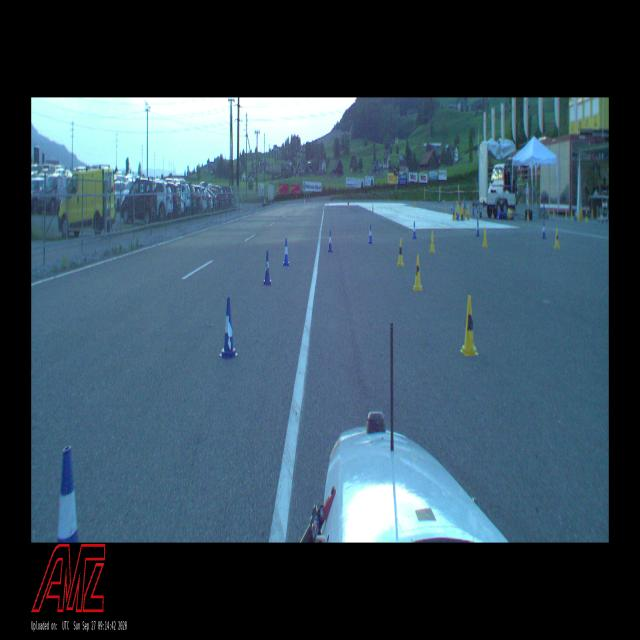blue_cone: (57, 447, 79, 542), (219, 296, 238, 358), (263, 251, 272, 285), (282, 238, 290, 266), (328, 230, 333, 252), (368, 224, 373, 243), (412, 221, 417, 239), (542, 221, 546, 239), (476, 219, 480, 237)
yellow_cone: (460, 296, 478, 356), (413, 254, 422, 290), (397, 238, 404, 266), (430, 231, 436, 252), (554, 228, 560, 249), (482, 227, 488, 247)
